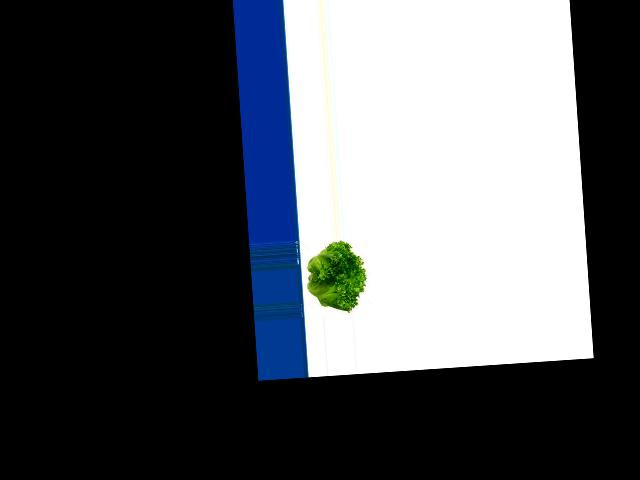lettuce: (300, 239, 370, 312)
